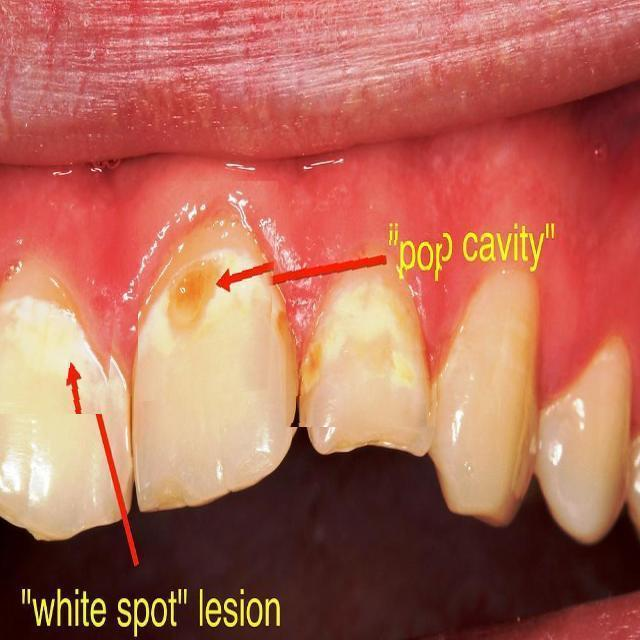Cavity: (286, 219, 443, 427), (138, 181, 279, 403), (1, 214, 125, 414)
